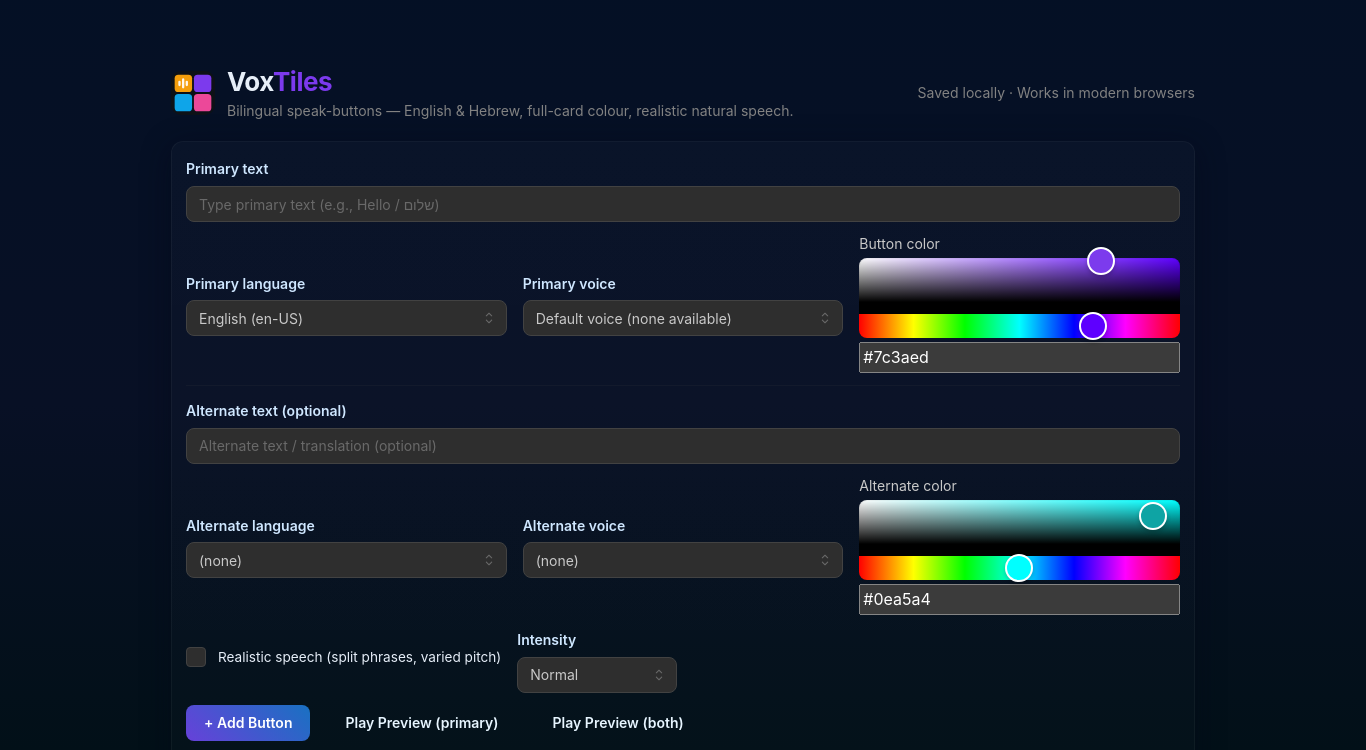
App integration › deletes a button
Type "To delete" into the field labelled "Primary text" at (683, 204), box [186,186,1180,222]
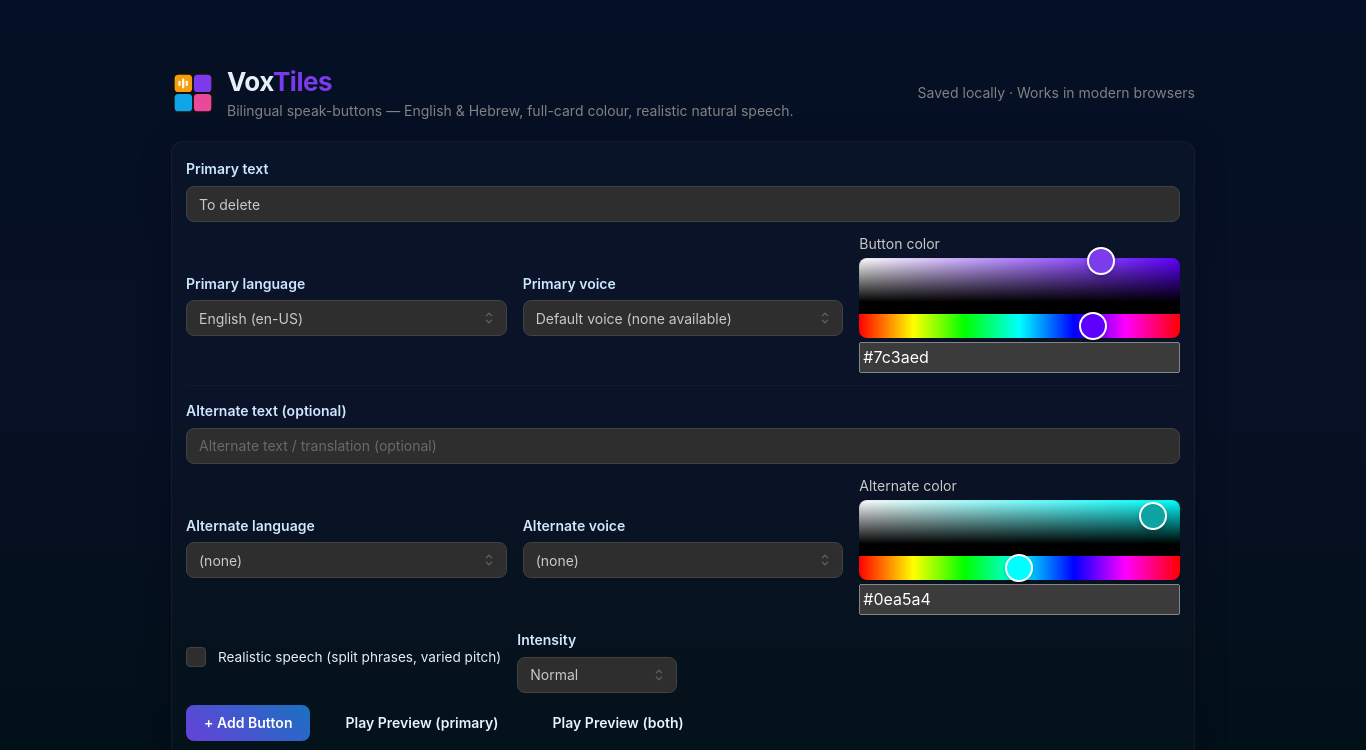
Click the button "+ Add Button" at (248, 723), box [186,705,310,741]
(page scrolled)
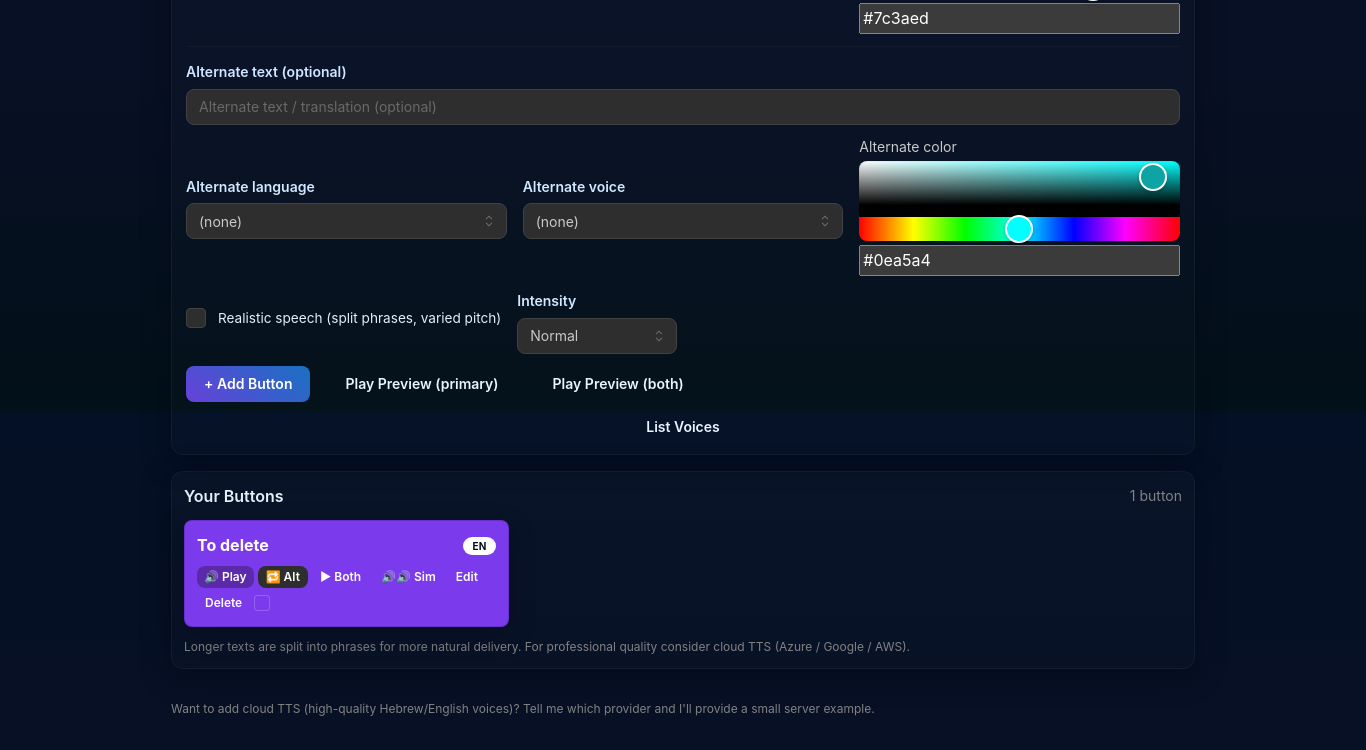
Now the text "To delete" is shown, box [197,535,269,555]
Click the button "Delete" at (224, 603), box [197,592,250,614]
(page scrolled)
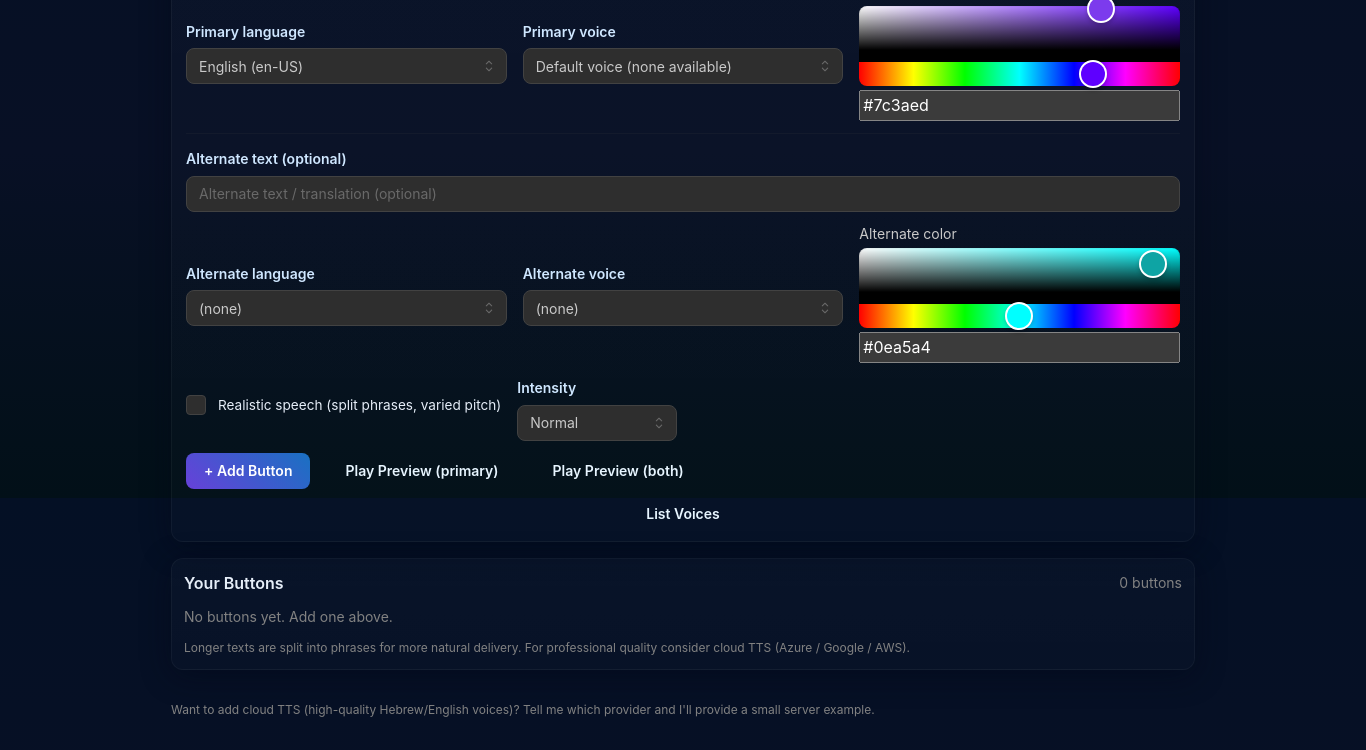
Now the text "To delete" is gone
